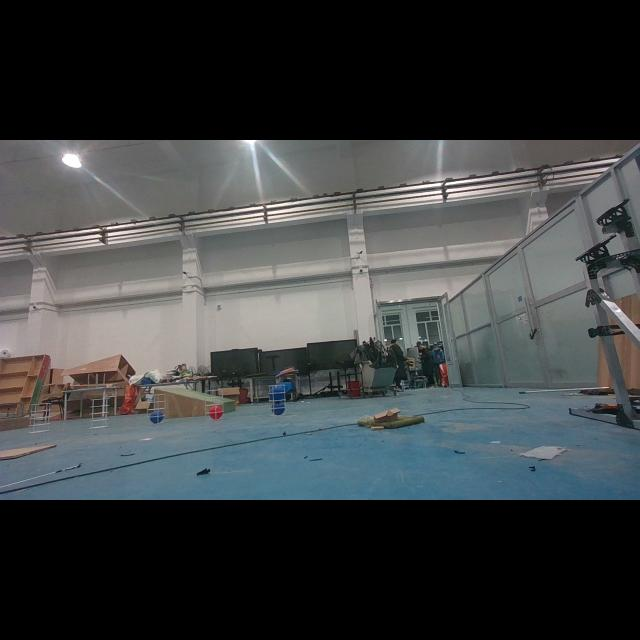B: (270, 384, 286, 402), (271, 403, 287, 415), (149, 411, 165, 423)
R: (208, 406, 224, 419)
S: (86, 396, 112, 432), (266, 382, 290, 420), (144, 392, 168, 428), (203, 388, 227, 422), (29, 401, 53, 435)
